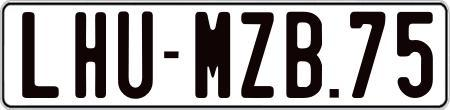5: (394, 12, 433, 104)
7: (349, 10, 387, 101)
B: (284, 11, 326, 98)
H: (74, 10, 108, 100)
L: (20, 9, 60, 100)
M: (194, 9, 233, 101)
U: (117, 11, 158, 99)
Z: (239, 11, 274, 98)
